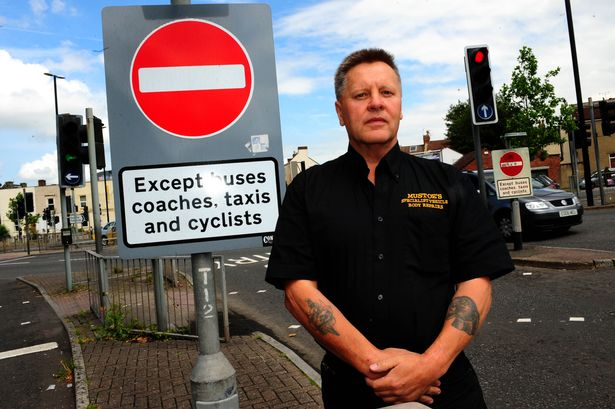No_entry: (128, 18, 254, 140)
